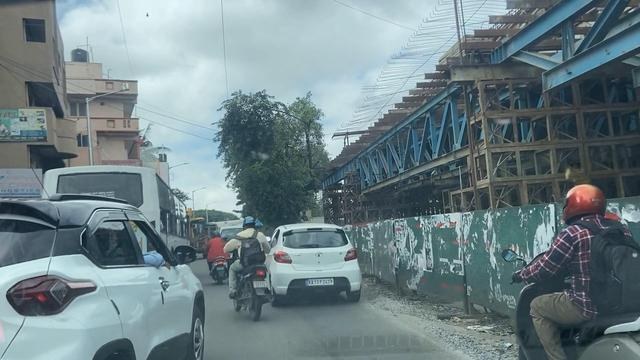LMV: (273, 229, 356, 309), (236, 216, 265, 318)
